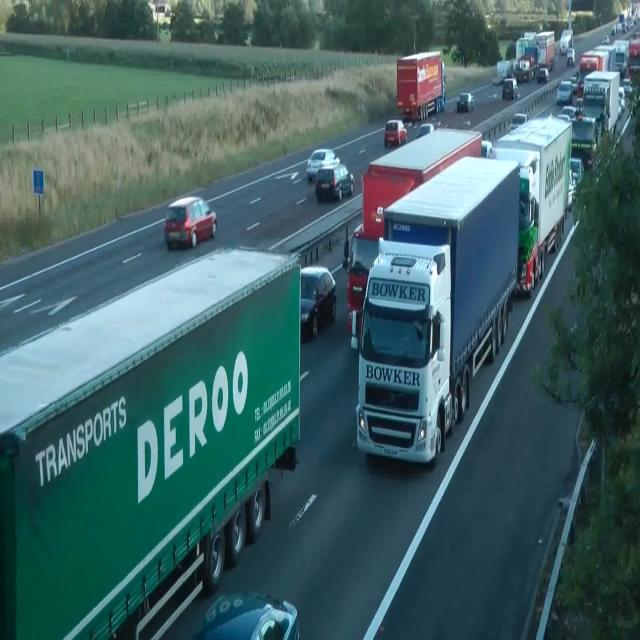bus: (198, 591, 300, 639), (163, 196, 217, 250), (300, 265, 336, 339), (314, 162, 354, 202), (306, 148, 340, 182), (567, 157, 583, 211), (384, 119, 407, 147), (558, 105, 582, 122), (570, 157, 584, 186), (508, 112, 528, 132), (557, 80, 573, 104), (456, 92, 474, 112), (502, 78, 518, 100), (567, 168, 574, 211), (416, 122, 434, 138), (618, 86, 626, 118), (536, 68, 550, 84), (569, 73, 579, 94), (481, 140, 492, 158), (622, 77, 632, 96), (566, 47, 575, 66), (622, 21, 628, 33), (611, 24, 617, 35), (601, 36, 609, 44)
minibus: (0, 244, 302, 638), (353, 154, 521, 466), (343, 127, 483, 343), (488, 113, 572, 298), (361, 127, 483, 239), (396, 51, 446, 121), (556, 106, 598, 172), (582, 69, 620, 137), (517, 29, 555, 73), (535, 30, 555, 71), (626, 37, 640, 84), (559, 28, 573, 55)
